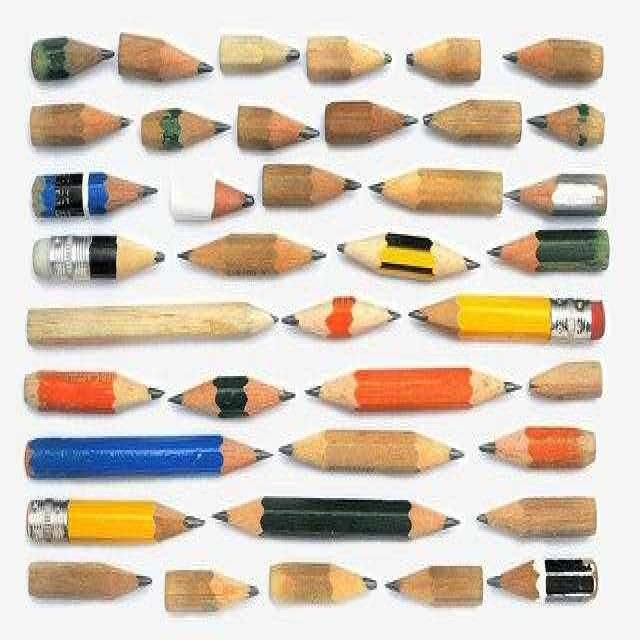pencil: (403, 290, 613, 364), (24, 297, 282, 357), (21, 430, 273, 488), (295, 360, 525, 420), (280, 414, 469, 485), (202, 492, 472, 540), (20, 494, 209, 554), (475, 421, 608, 503), (168, 225, 335, 289), (367, 158, 511, 227), (474, 488, 618, 555), (15, 367, 172, 427), (27, 163, 165, 231), (333, 227, 484, 289), (483, 545, 610, 613), (279, 294, 409, 357), (162, 370, 302, 428), (33, 236, 173, 291), (486, 227, 621, 284), (19, 559, 156, 615), (499, 24, 608, 89), (264, 555, 387, 612), (380, 555, 494, 616), (30, 100, 138, 163), (422, 93, 526, 157), (519, 350, 616, 417), (114, 24, 217, 87), (325, 95, 422, 157), (302, 28, 398, 90), (525, 92, 612, 160), (164, 164, 255, 229), (140, 100, 234, 160), (256, 162, 364, 214), (30, 29, 118, 92), (502, 170, 607, 222), (158, 567, 265, 618), (237, 99, 324, 159), (218, 22, 303, 83), (401, 27, 486, 86)
